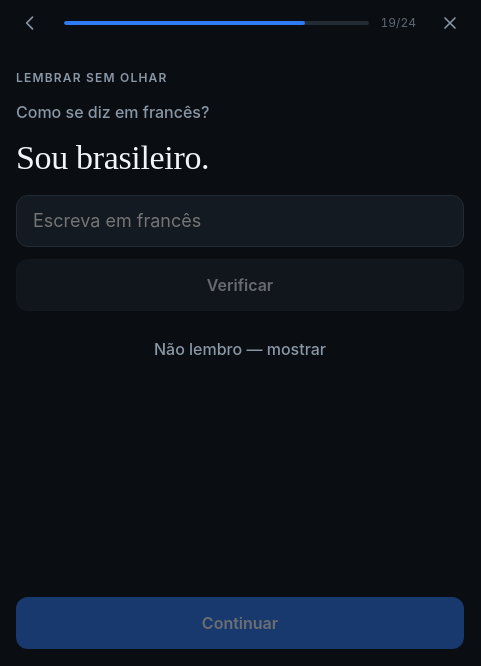
Scenario: Lesson 1 flow › recall accepts an answer typed without accents
Type "je suis bresilien" into the field named "Sua resposta em francês". click: (240, 221)
box: [16, 195, 464, 247]
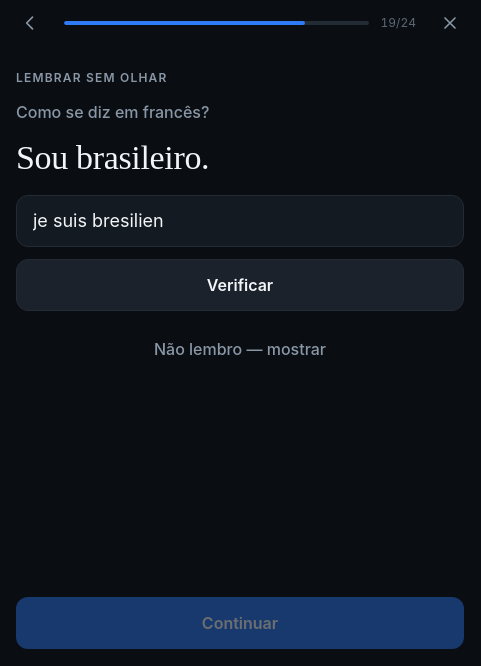
Click the button "Verificar". click: (240, 285)
box: [16, 259, 464, 311]
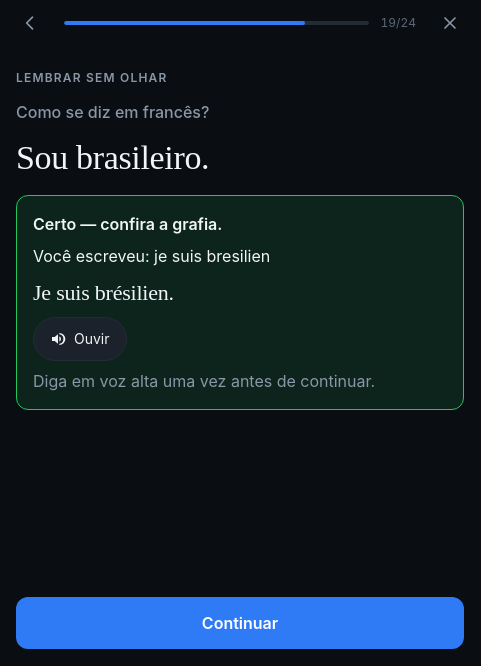
Expected: the text "Certo — confira a grafia." is shown, [33, 214, 222, 234]
